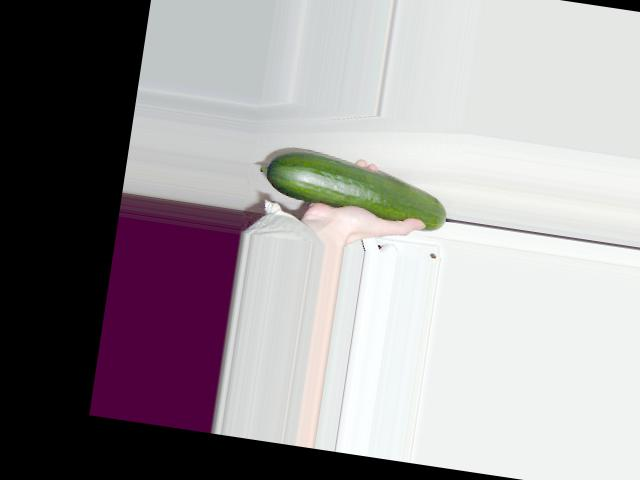cucumber: (255, 142, 453, 233)
